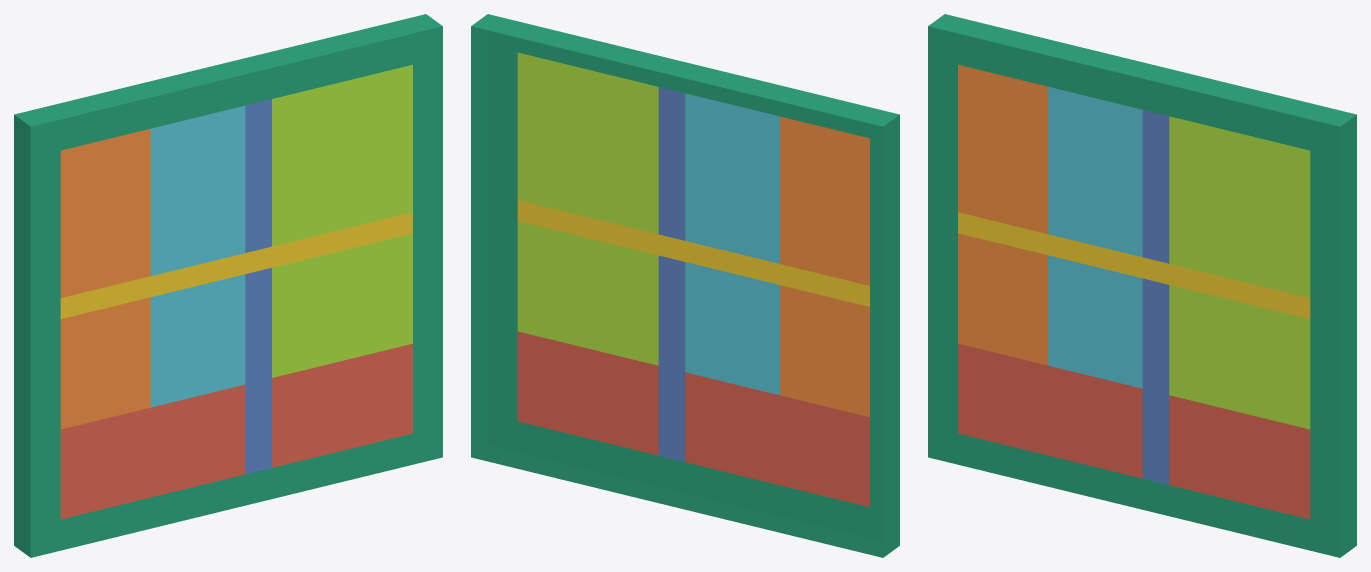
File: WallDeco4.glb
3 views of the same model, side by side, from view 1: azimuth 30°, elevation 25°; view 2: azimuth 150°, elevation 25°; view 3: azimuth 330°, elevation 25° (orthographic).
Parts seen in each view (by area): view 1: SI_Prop_WallDeco_04; view 2: SI_Prop_WallDeco_04; view 3: SI_Prop_WallDeco_04.
Part boxes in pixels (x1,y1,x2,y2): SI_Prop_WallDeco_04: (14,14,442,557); SI_Prop_WallDeco_04: (471,14,899,557); SI_Prop_WallDeco_04: (928,14,1356,557).
Bounding box in the file's own units: 0.01 × 0.01 × 0.000702.
1 material, 1 textured.
